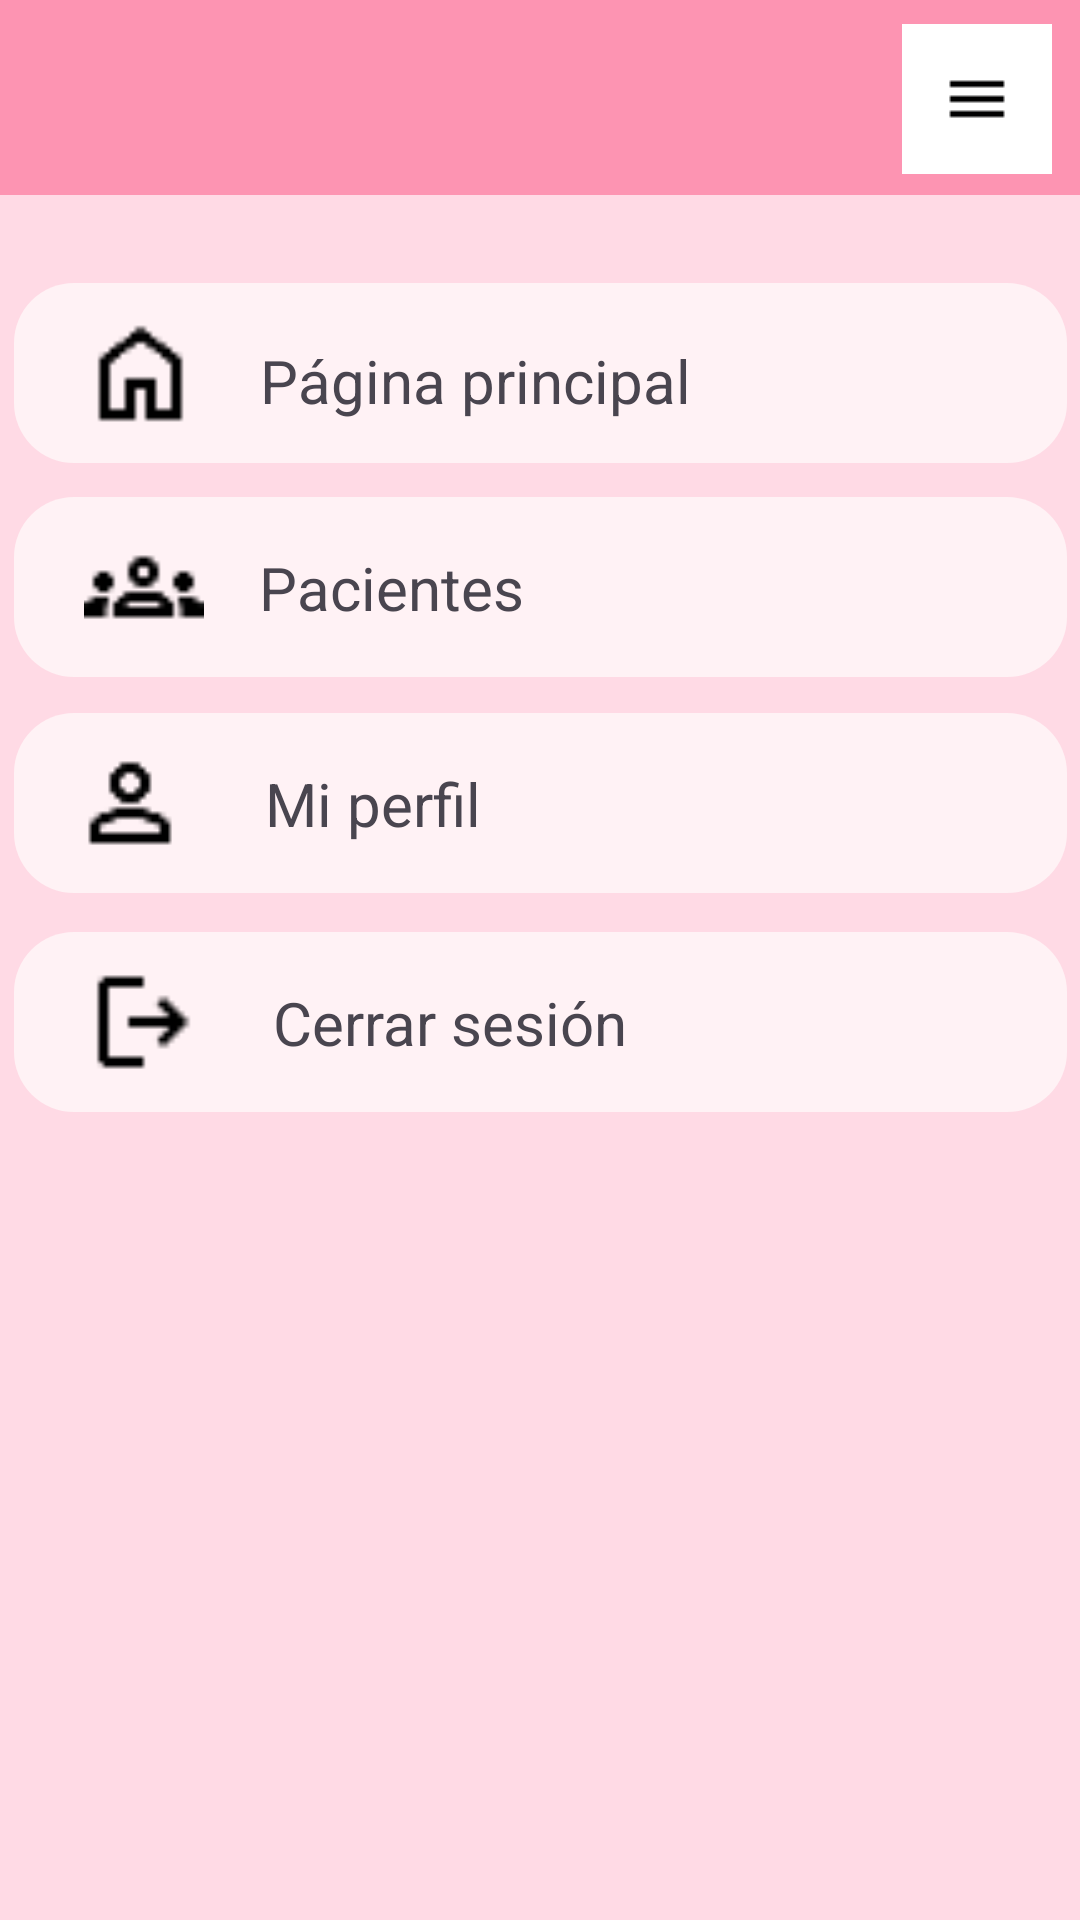

Icon bounding boxes for this 1080x1920 phone screenshot, format rect(x1, y1, x2, y2):
menu: rect(902, 24, 1052, 174)
